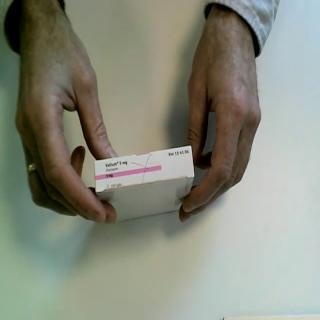valium5mg: (94, 144, 196, 224)
